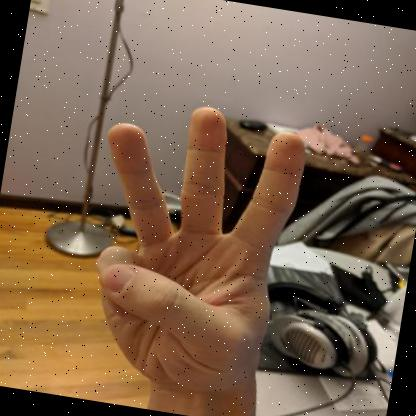W: (96, 106, 305, 402)
